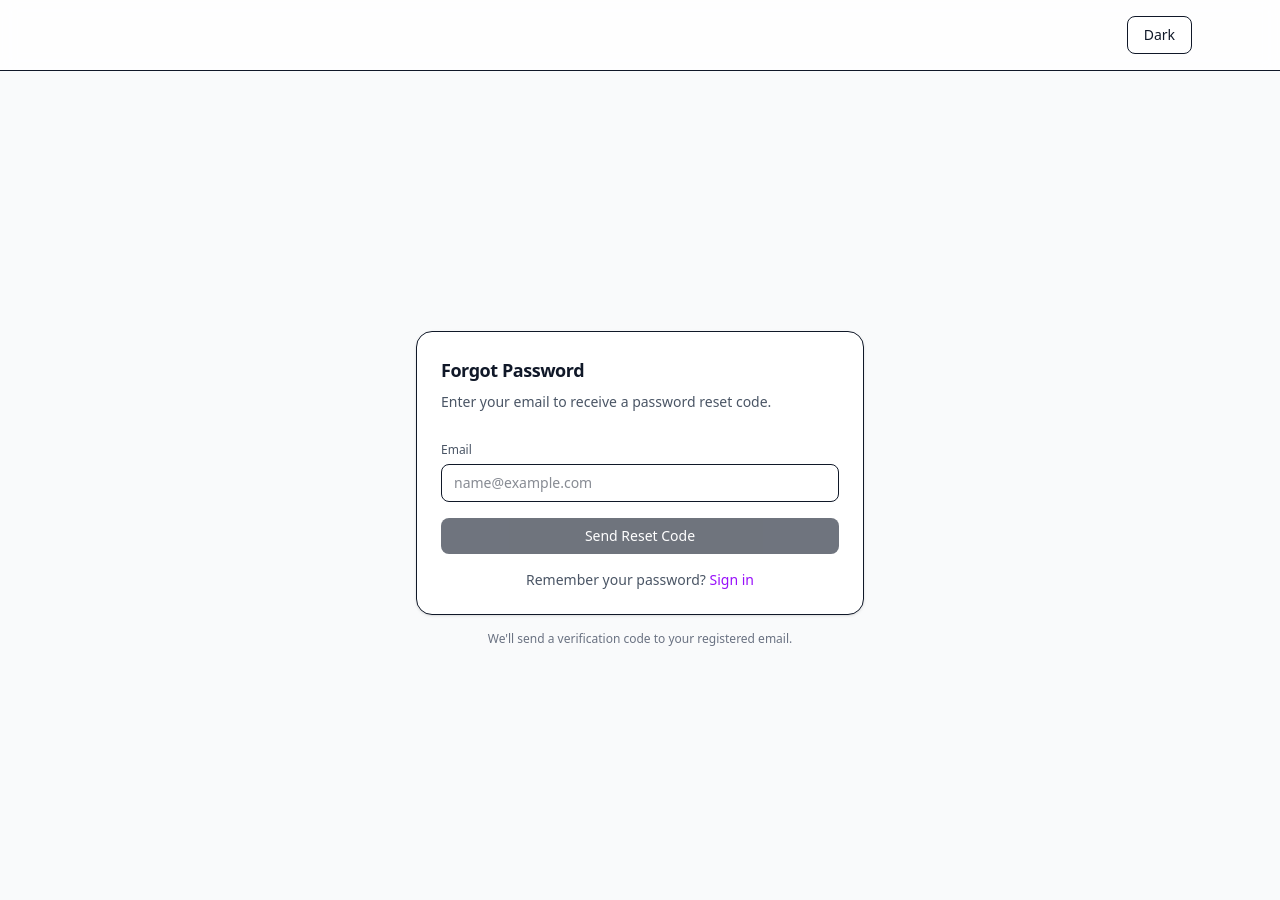
Test: ForgotPasswordPage › transitions to OTP step after successful email submission
Type "test@example.com" into the field with placeholder "name@example.com" at x=640, y=482, box [441,464,839,502]
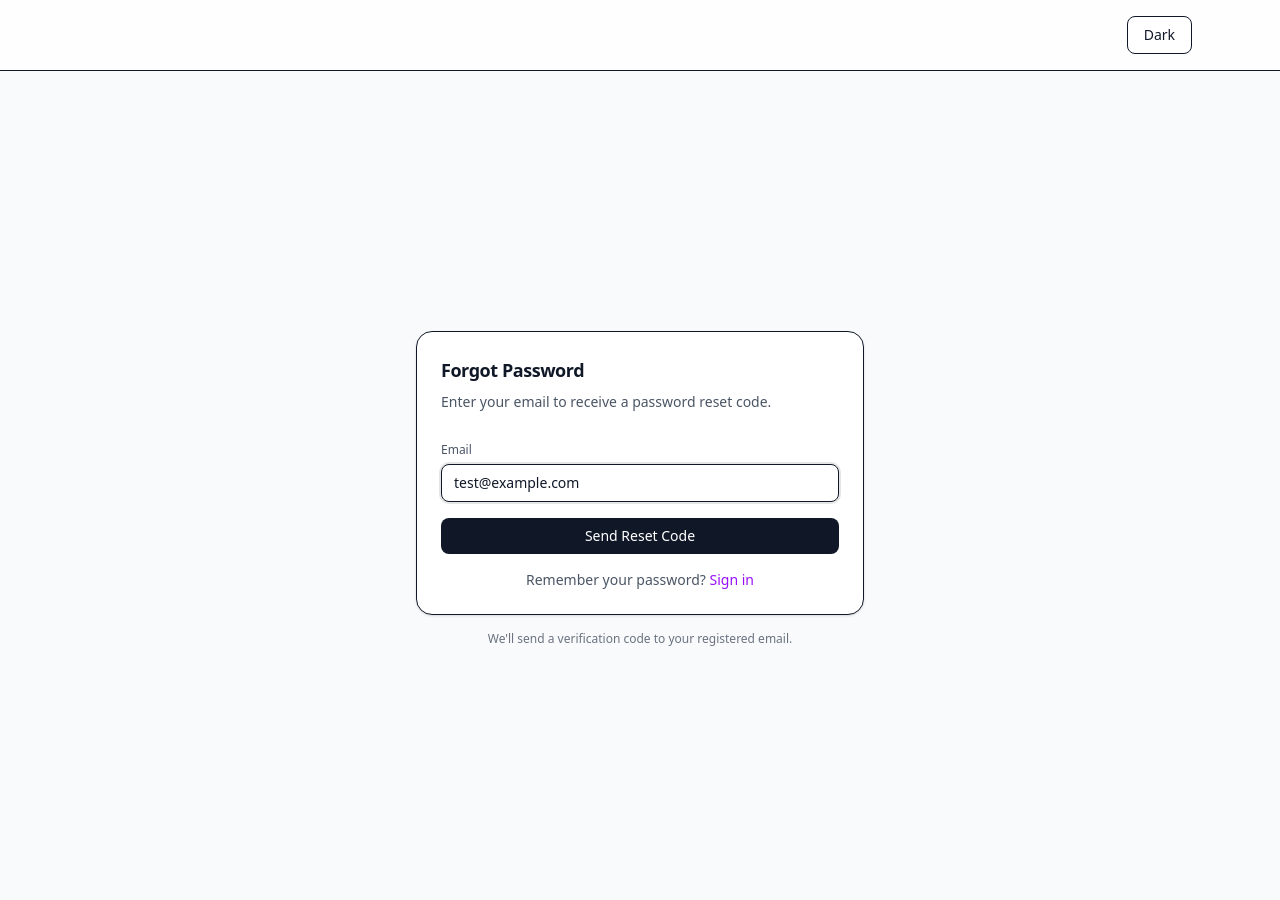
Click the button "Send Reset Code" at x=640, y=536, box [441,518,839,554]
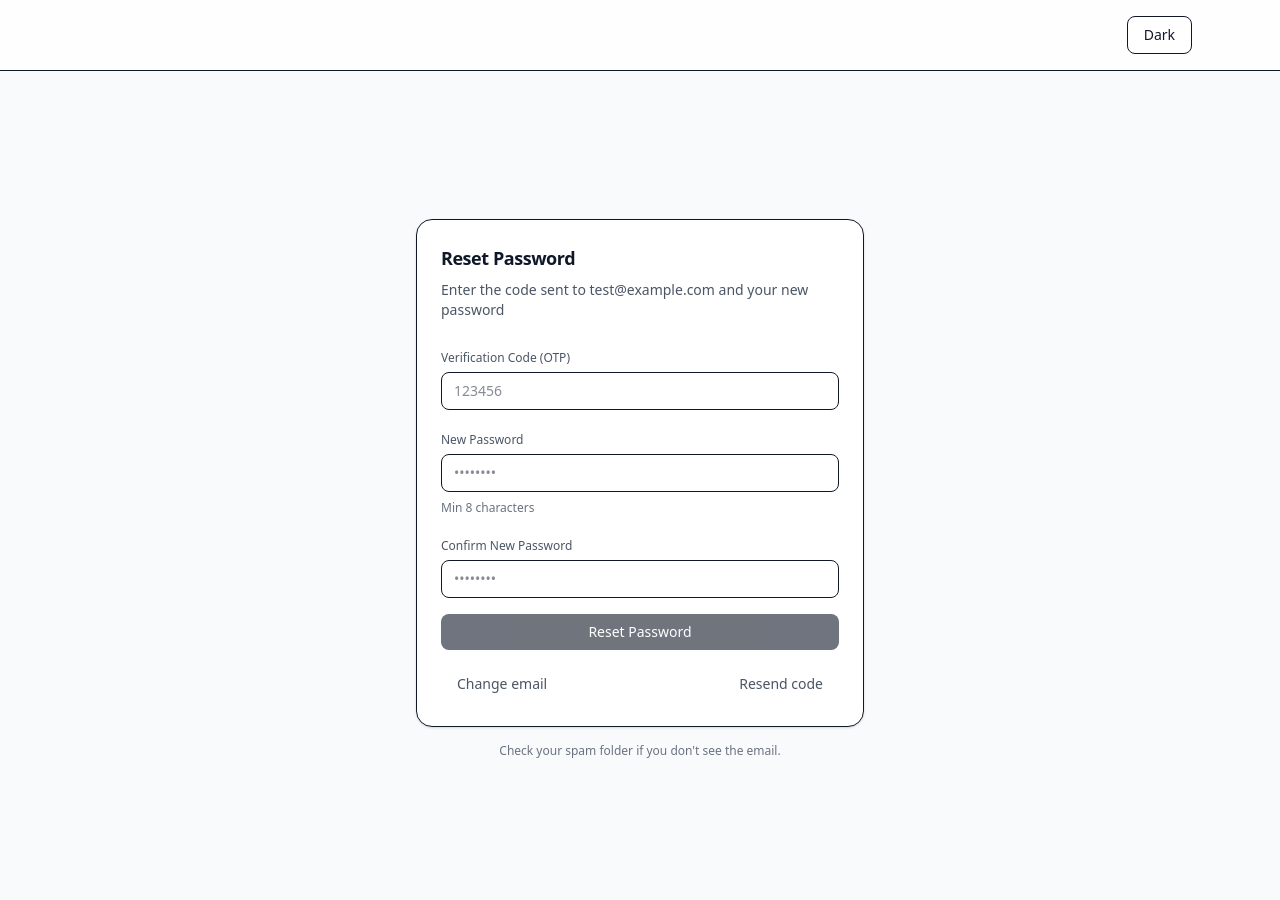
expect the heading "Reset Password" is shown: met, box [441,246,575,270]
expect the field with placeholder "123456" is shown: met, box [441,372,839,410]
